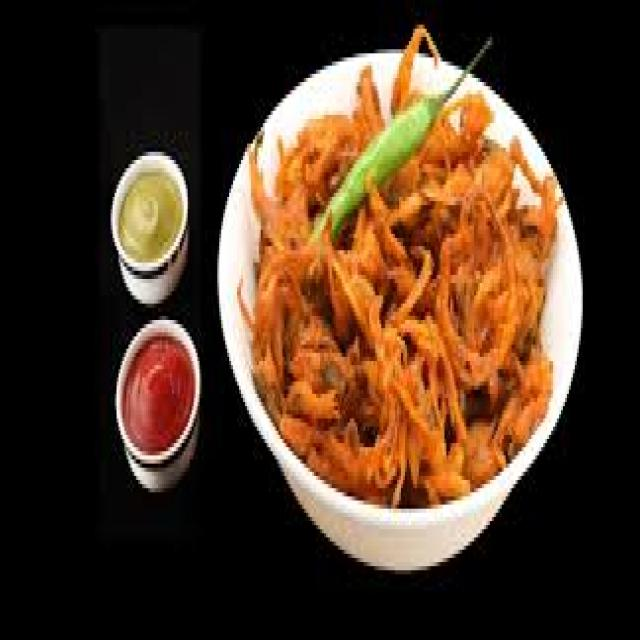BAJI: (251, 66, 559, 505)
